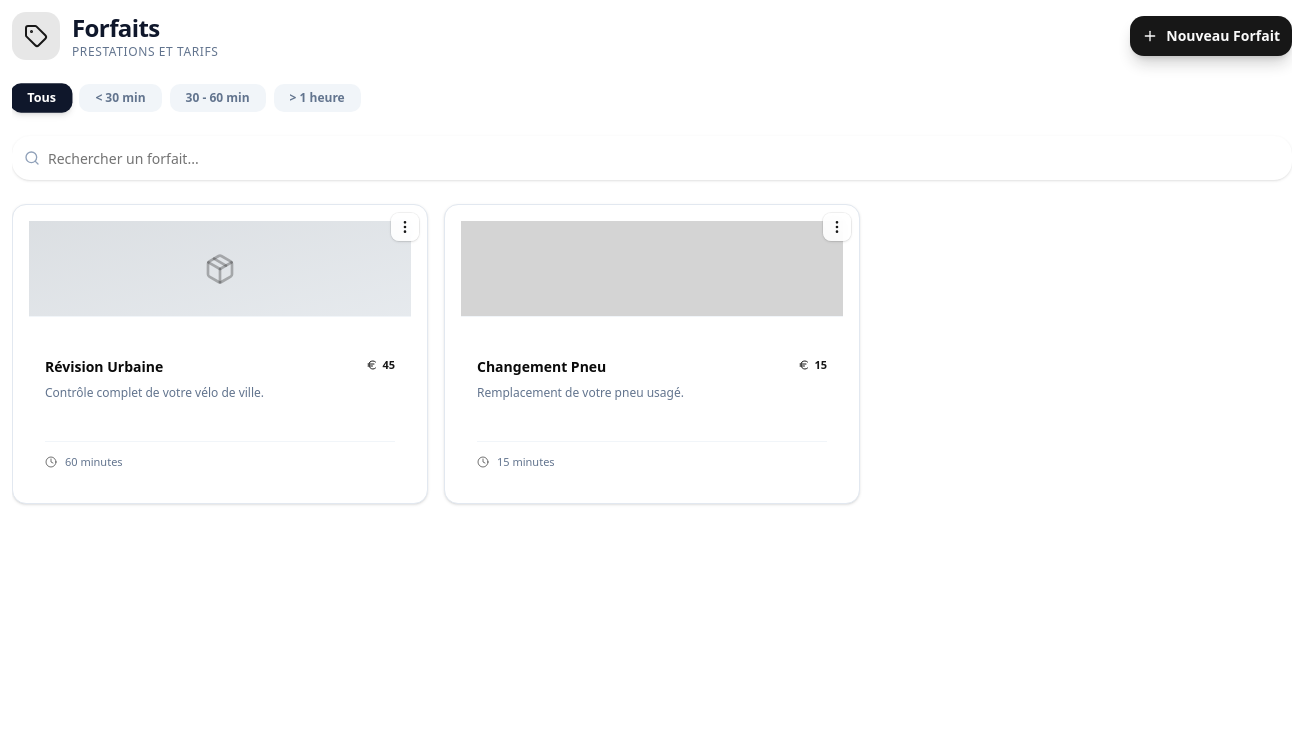
Test: AdminServicesPage › filtre les forfaits lors de la recherche
Expected: the heading "Révision Urbaine" is shown, [45, 357, 163, 377]
Type "Pneu" into the field with placeholder "Rechercher un forfait...".
click(652, 158); type("Pneu")  # box [12, 136, 1292, 180]
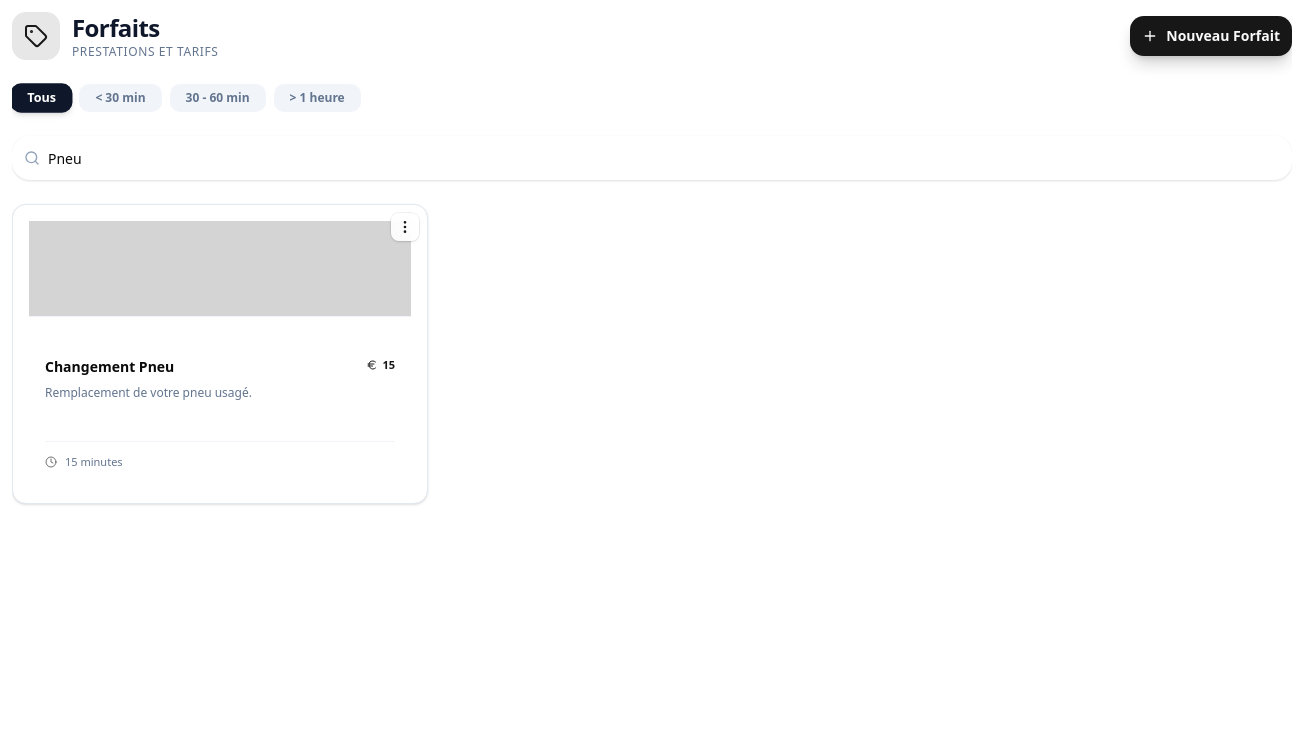
Expected: the heading "Changement Pneu" is shown, [45, 357, 174, 377]
Result: the heading "Révision Urbaine" is gone
